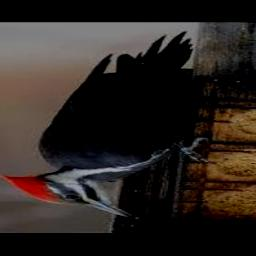Woodpecker: (0, 32, 212, 220)
